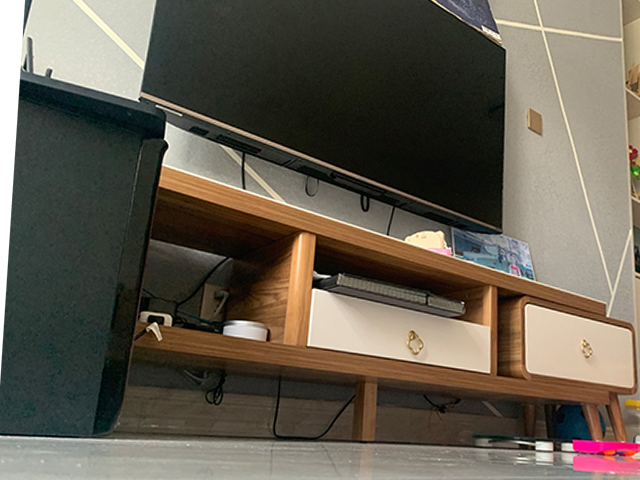cabinet: (133, 164, 639, 452)
wire: (139, 239, 230, 335), (271, 378, 355, 442), (174, 366, 232, 407)
